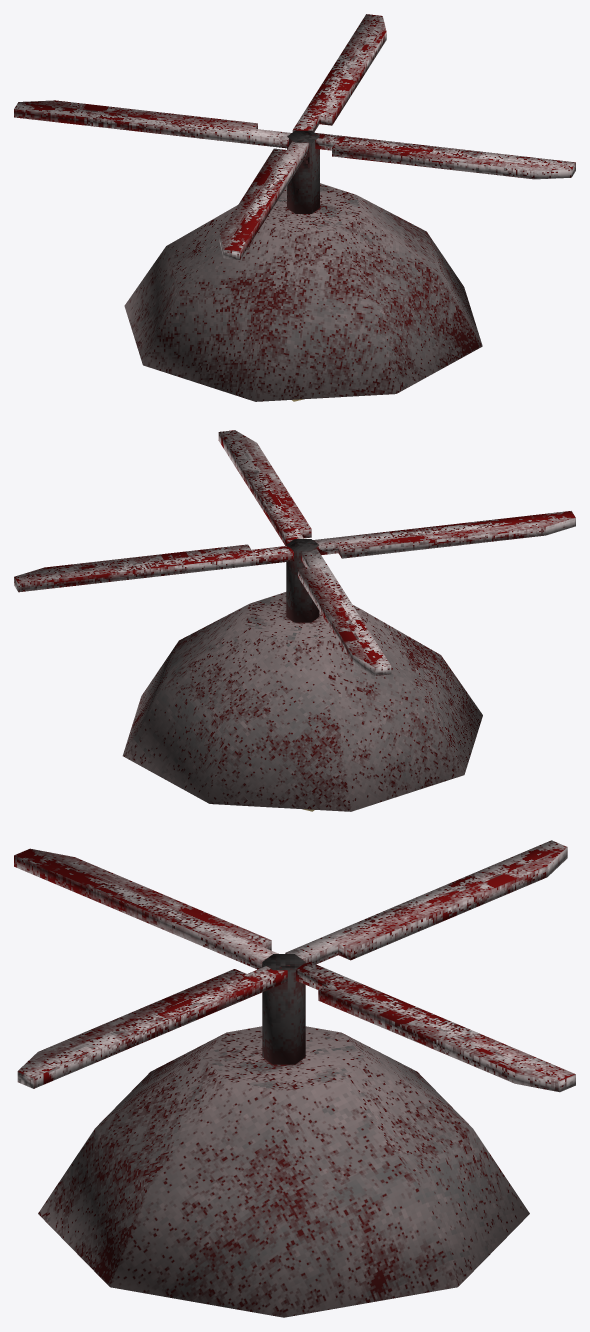
Rendered from Light_Bulb_Creature.fbx.
3 renders of one model, top to bottom at view 1: azimuth 30°, elevation 25°; view 2: azimuth 150°, elevation 25°; view 3: azimuth 270°, elevation 25°, orthographic. The views are drawn at different scales.
Visible parts, largest first — view 1: Cylinder, Cube.003; view 2: Cylinder, Cube.003; view 3: Cylinder, Cube.003.
Boxes of the visible parts, x1,y1,x2,y2 form: Cylinder: (124,130,482,401); Cube.003: (14,14,575,259); Cylinder: (122,539,482,811); Cube.003: (14,430,575,675); Cylinder: (38,954,529,1317); Cube.003: (14,840,575,1092).
Bounding box in the file's own units: 231 × 149 × 228.
2 materials, 1 textured.
